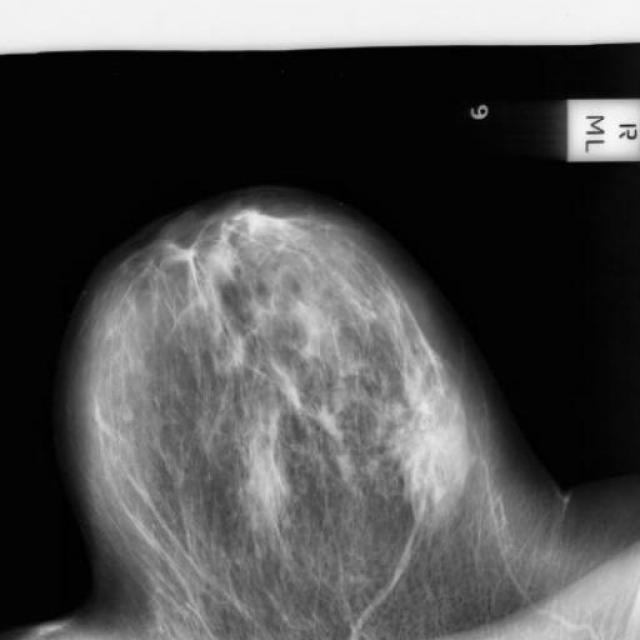cancer: (294, 386, 354, 458)
